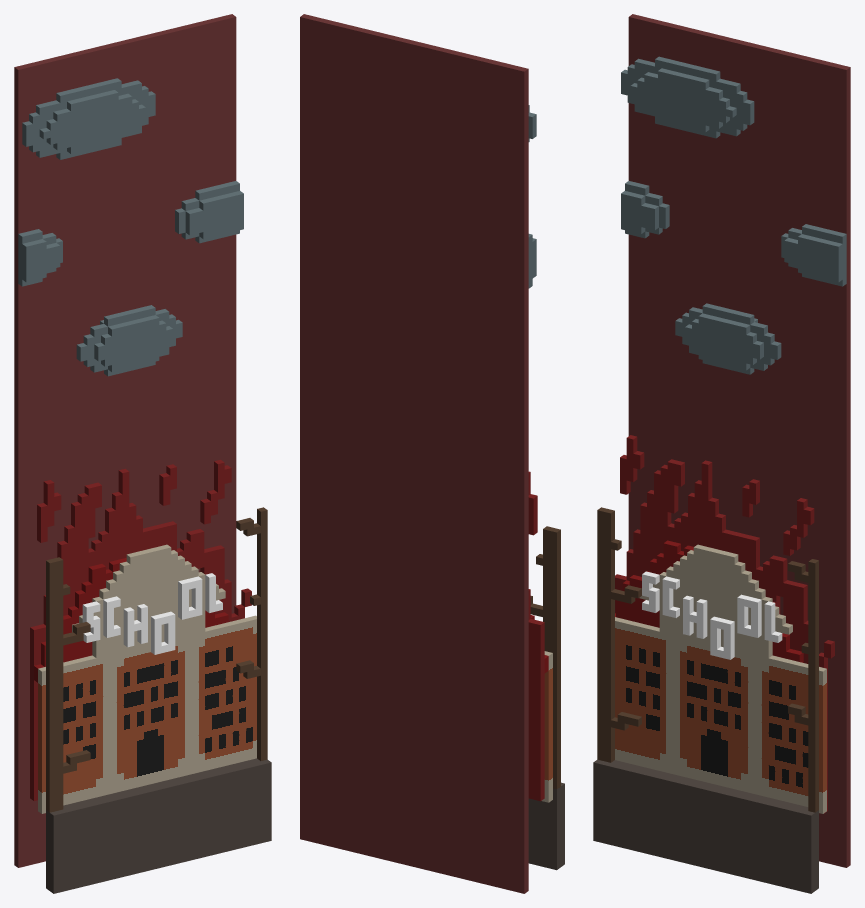
File: scene_school_burned.glb
3 renders of one model, left to right at view 1: azimuth 30°, elevation 25°; view 2: azimuth 150°, elevation 25°; view 3: azimuth 330°, elevation 25°, orthographic. The views are drawn at different scales.
Parts seen in each view (by area): view 1: scene_school_burned_49, scene_school_burned_48, scene_school_burned_47, scene_school_burned_46, scene_school_burned_45, scene_school_burned_44; view 2: scene_school_burned_49, scene_school_burned_47, scene_school_burned_45, scene_school_burned_48, scene_school_burned_46; view 3: scene_school_burned_49, scene_school_burned_48, scene_school_burned_47, scene_school_burned_46, scene_school_burned_45, scene_school_burned_44.
Boxes of the visible parts, x1,y1,x2,y2 form: scene_school_burned_49: (14, 14, 236, 867); scene_school_burned_48: (38, 544, 256, 813); scene_school_burned_47: (46, 507, 271, 893); scene_school_burned_46: (18, 78, 243, 376); scene_school_burned_45: (30, 459, 251, 800); scene_school_burned_44: (34, 558, 228, 682); scene_school_burned_49: (300, 14, 528, 893); scene_school_burned_47: (528, 526, 564, 870); scene_school_burned_45: (528, 471, 544, 801); scene_school_burned_48: (541, 651, 552, 802); scene_school_burned_46: (528, 105, 536, 288); scene_school_burned_49: (628, 14, 850, 867); scene_school_burned_48: (615, 544, 826, 813); scene_school_burned_47: (593, 507, 818, 893); scene_school_burned_46: (621, 56, 846, 374); scene_school_burned_45: (615, 435, 834, 813); scene_school_burned_44: (615, 540, 803, 662).
Bounding box in the file's own units: 3.2 × 11.2 × 1.
1 material, 1 textured.
